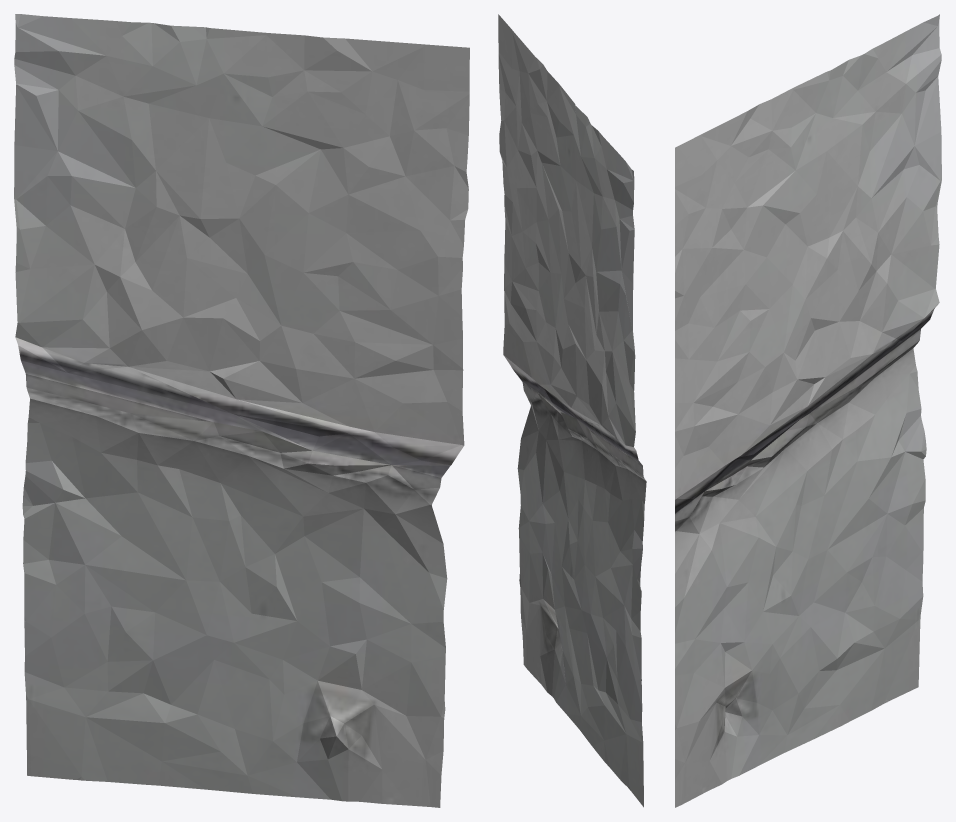
The picture shows the model from 3 angles, left to right: view 1: azimuth 30°, elevation 25°; view 2: azimuth 150°, elevation 25°; view 3: azimuth 270°, elevation 25°; orthographic projection. The views are drawn at different scales.
Size of the model in its own units: 1.43 by 3.35 by 1.2.
Materials: 1 (1 with a texture image).
